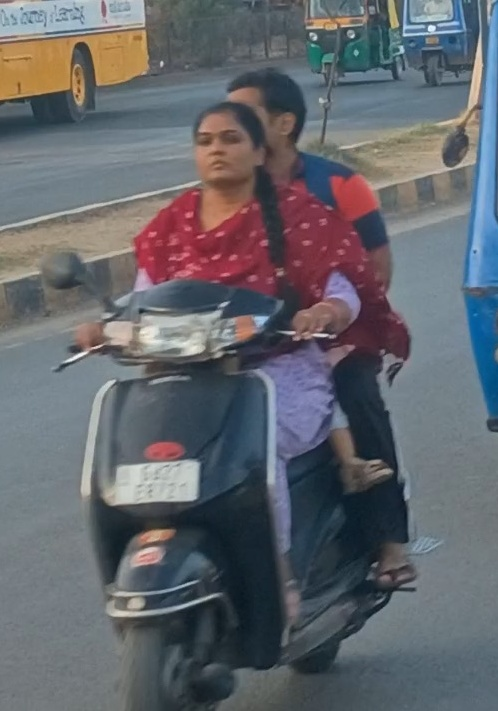BikeWithRider: (35, 56, 438, 711)
NoHelmet: (219, 69, 312, 162), (185, 103, 264, 188)
